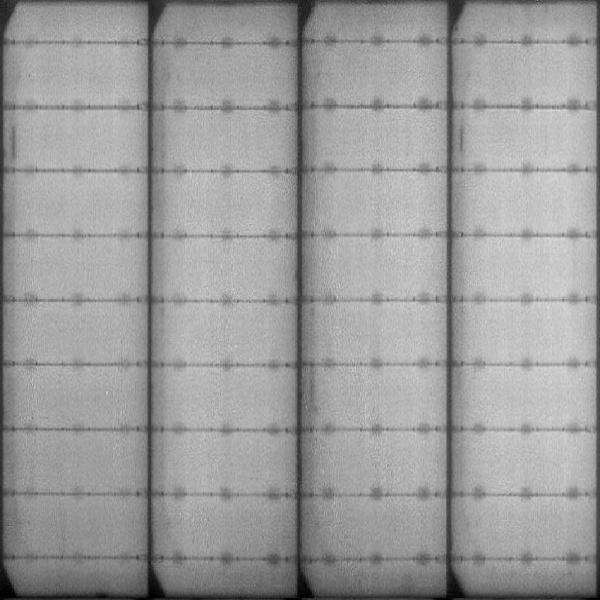scratch: (456, 118, 469, 156), (9, 127, 19, 163)
